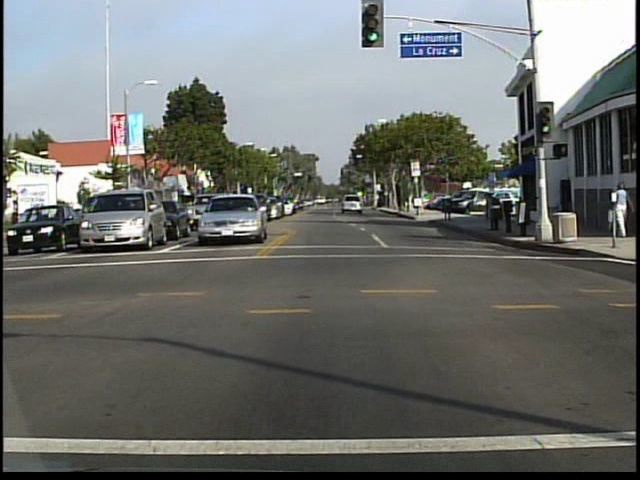person: (608, 176, 635, 242)
